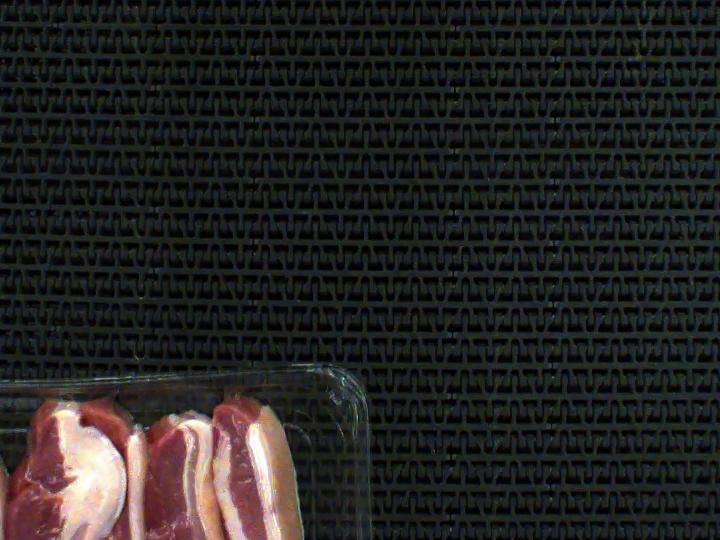packaging-error: (0, 370, 276, 450)
